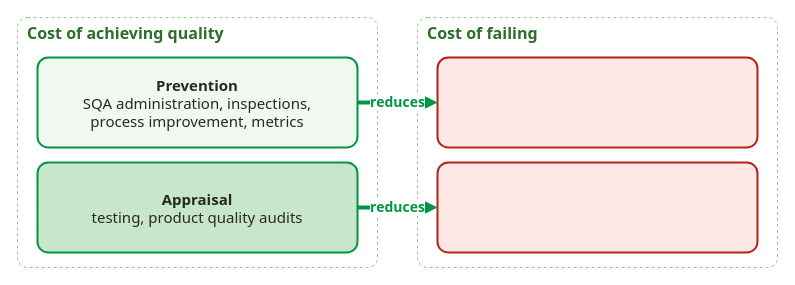
Some shapes in this 795 by 285 pixel diagram are drawn without their labels. The centre of each missing label's shape, as x and y in pixels:
External failure found after shipment: support, complaints, fixes, upgrades: (x=597, y=207)
Internal failure found before shipment: defect management, rework, retesting: (x=597, y=102)
